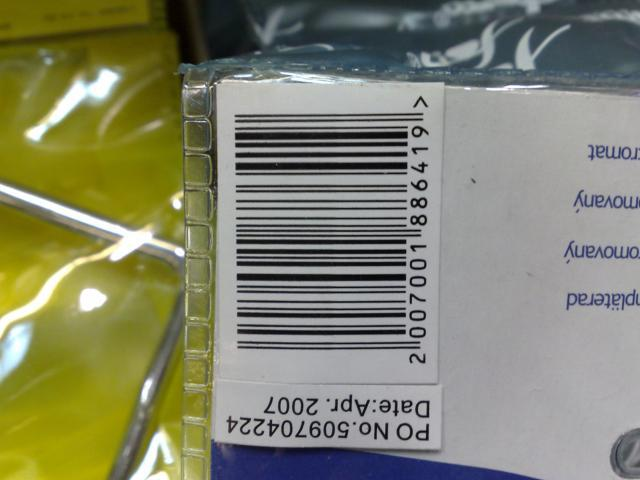Barkod: (232, 110, 410, 350)
